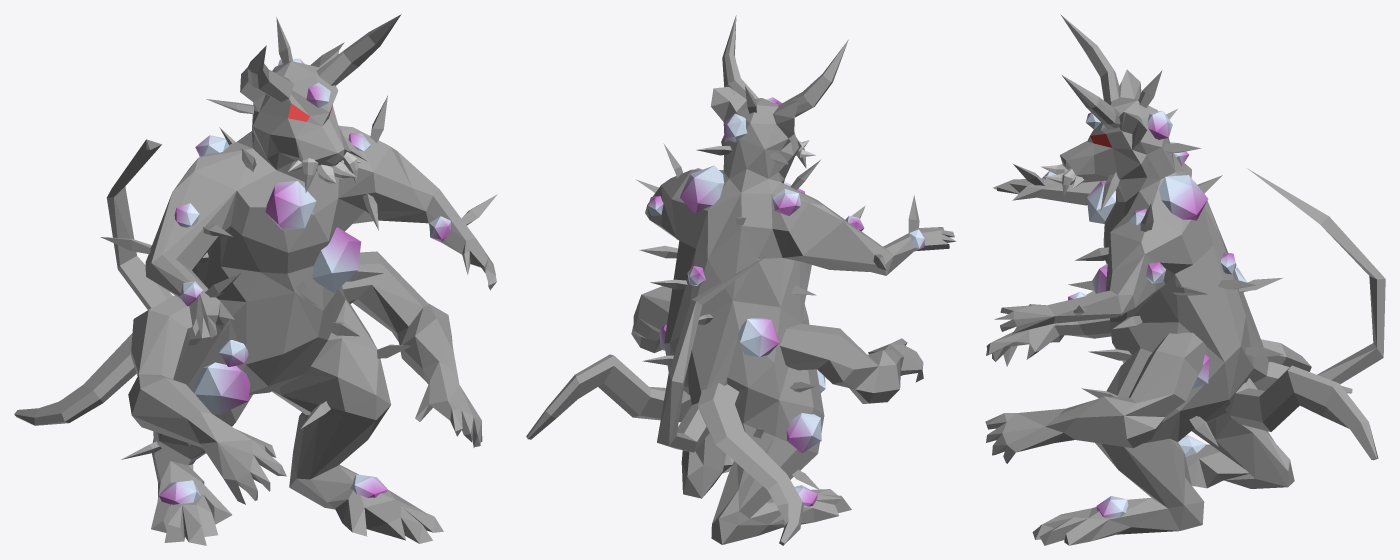
File: ratconstruct.fbx
3 views of the same model, side by side, from view 1: azimuth 30°, elevation 25°; view 2: azimuth 150°, elevation 25°; view 3: azimuth 270°, elevation 25° (orthographic). The views are drawn at different scales.
Visible parts, largest first — view 1: RatConstruct, RatConstructExtraLimbs, RatConstructBoils, RatConstructSpikySkin, RatConstructExtraTails, RatConstructHorns, RatConstructBigTeeth; view 2: RatConstruct, RatConstructExtraTails, RatConstructExtraLimbs, RatConstructBoils, RatConstructSpikySkin, RatConstructHorns; view 3: RatConstruct, RatConstructExtraLimbs, RatConstructExtraTails, RatConstructBoils, RatConstructSpikySkin, RatConstructHorns, RatConstructBigTeeth.
Part boxes in pixels (left/top/right/bottom): RatConstruct: left=106, top=42, right=496, bottom=545; RatConstructExtraLimbs: left=128, top=251, right=482, bottom=504; RatConstructBoils: left=159, top=58, right=450, bottom=505; RatConstructSpikySkin: left=100, top=17, right=497, bottom=459; RatConstructExtraTails: left=14, top=333, right=136, bottom=425; RatConstructHorns: left=247, top=14, right=401, bottom=101; RatConstructBigTeeth: left=288, top=152, right=362, bottom=192; RatConstruct: left=645, top=87, right=956, bottom=544; RatConstructExtraTails: left=526, top=354, right=803, bottom=545; RatConstructExtraLimbs: left=631, top=286, right=923, bottom=403; RatConstructBoils: left=648, top=97, right=924, bottom=506; RatConstructSpikySkin: left=635, top=86, right=919, bottom=490; RatConstructHorns: left=722, top=15, right=848, bottom=117; RatConstruct: left=993, top=69, right=1385, bottom=545; RatConstructExtraLimbs: left=985, top=291, right=1206, bottom=463; RatConstructExtraTails: left=1225, top=339, right=1378, bottom=460; RatConstructBoils: left=1042, top=110, right=1246, bottom=517; RatConstructSpikySkin: left=1013, top=70, right=1283, bottom=446; RatConstructHorns: left=1060, top=14, right=1120, bottom=129; RatConstructBigTeeth: left=1041, top=164, right=1083, bottom=196.
Size of the model in its own units: 0.7921 by 1.14 by 0.8868.
